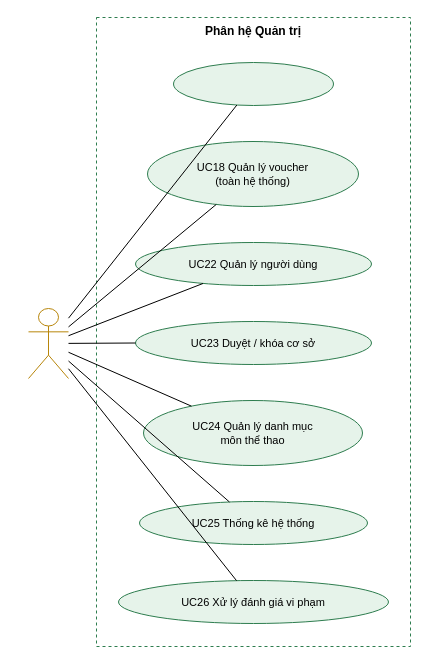
The diagram is 428 pixels wide and 664 high, and some of its shapes have lost their labels. The shapes that lost their labels are listed below. From the top down, each one's centre as x and y in pixels, then its label:
At point (253, 84): "UC02 Đăng nhập".
At point (48, 343): "Quản trị viên".
